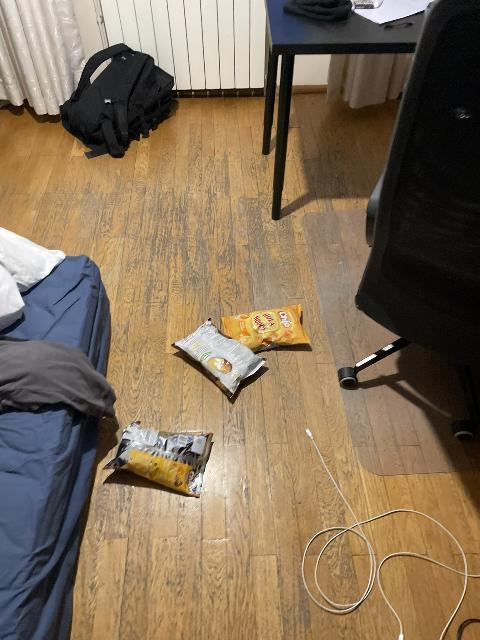Chio Cascaval 125g: (104, 421, 216, 496)
Chio Hula Hoops Cheese 70g: (223, 303, 311, 349)
Lays Beef Grilled Ribs 125g: (170, 316, 268, 398)
